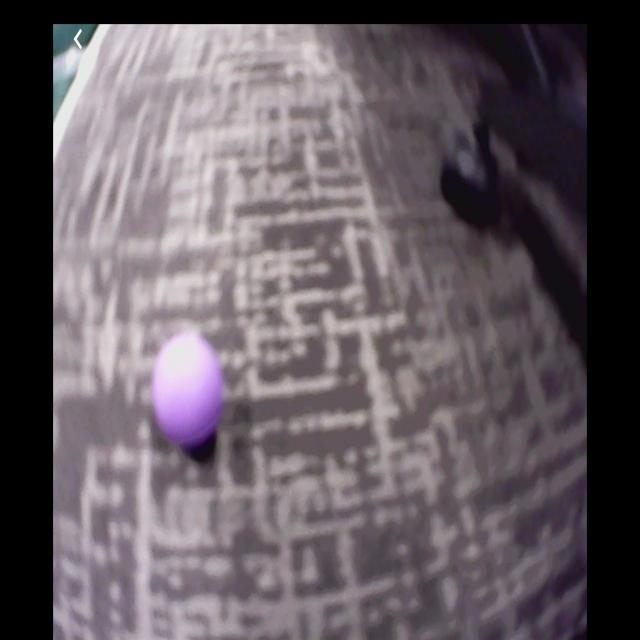ball: (153, 336, 222, 453)
